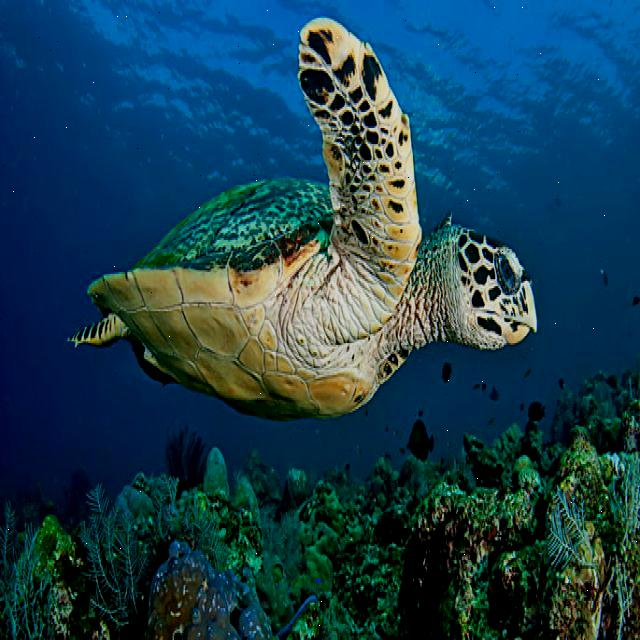tortoise: (64, 38, 550, 434)
